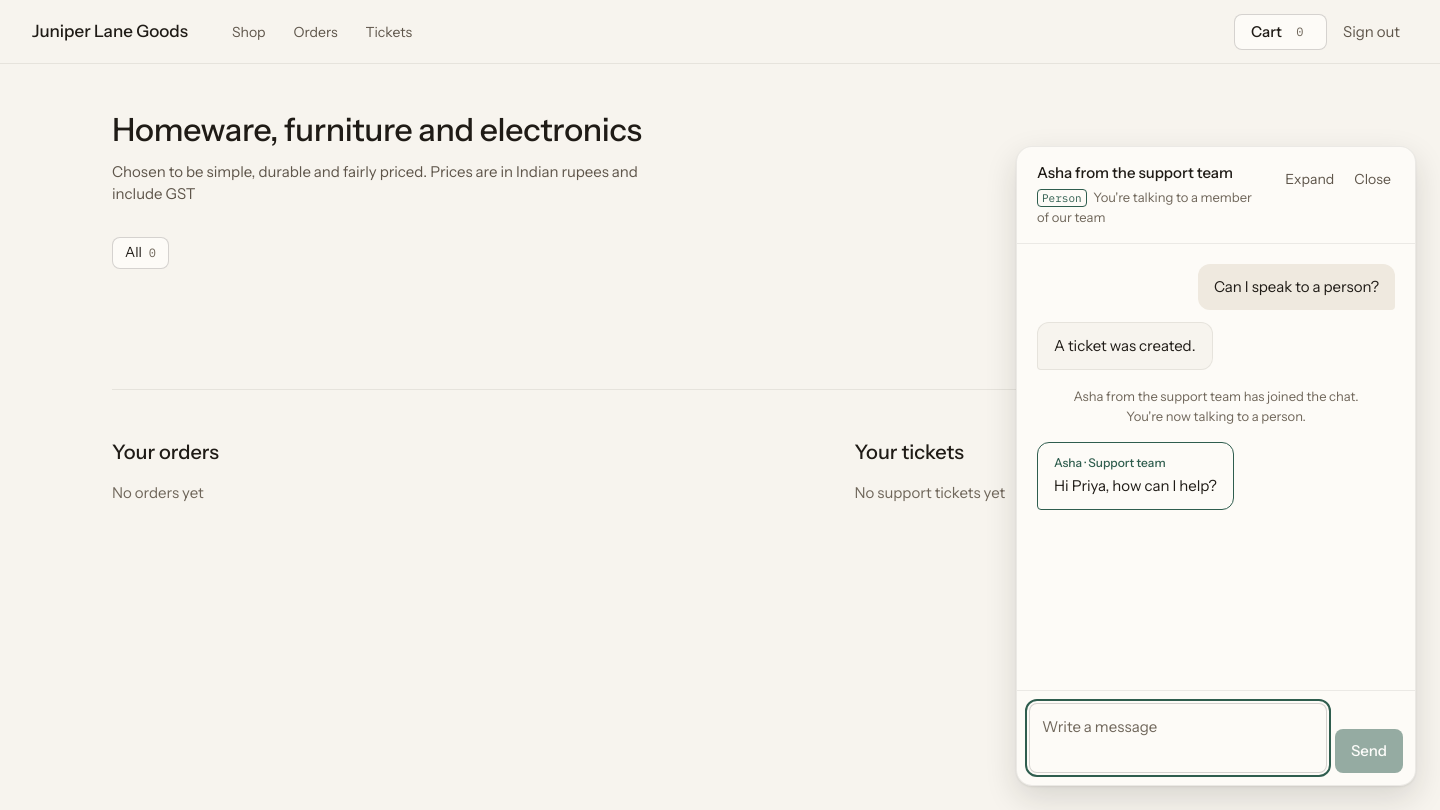
Test: the customer when a person joins the chat › sees the person join, their messages, and their messages go to the person
This screenshot has width=1440, height=810.
Expected: the heading "Homeware, furniture and electronics" is shown, [112, 110, 642, 149]
Expected: the text "Asha · Support team" is shown, [1054, 455, 1166, 470]
Type "My kettle leaks." into the text box named "Your message".
click(1178, 738); type("My kettle leaks.")  # box [1029, 703, 1327, 773]
Then press Enter
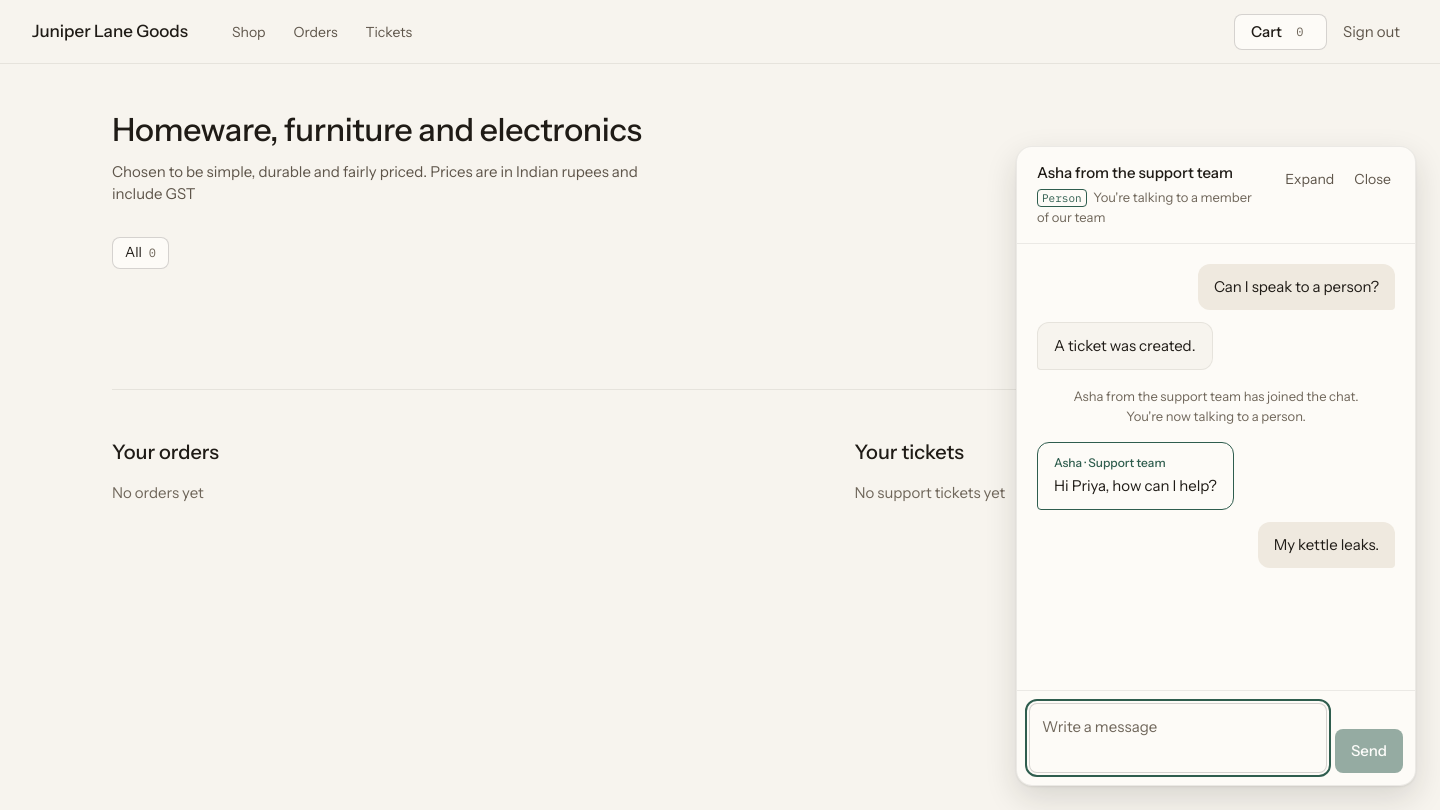
Expected: the text "My kettle leaks." is shown, [1274, 534, 1379, 556]
